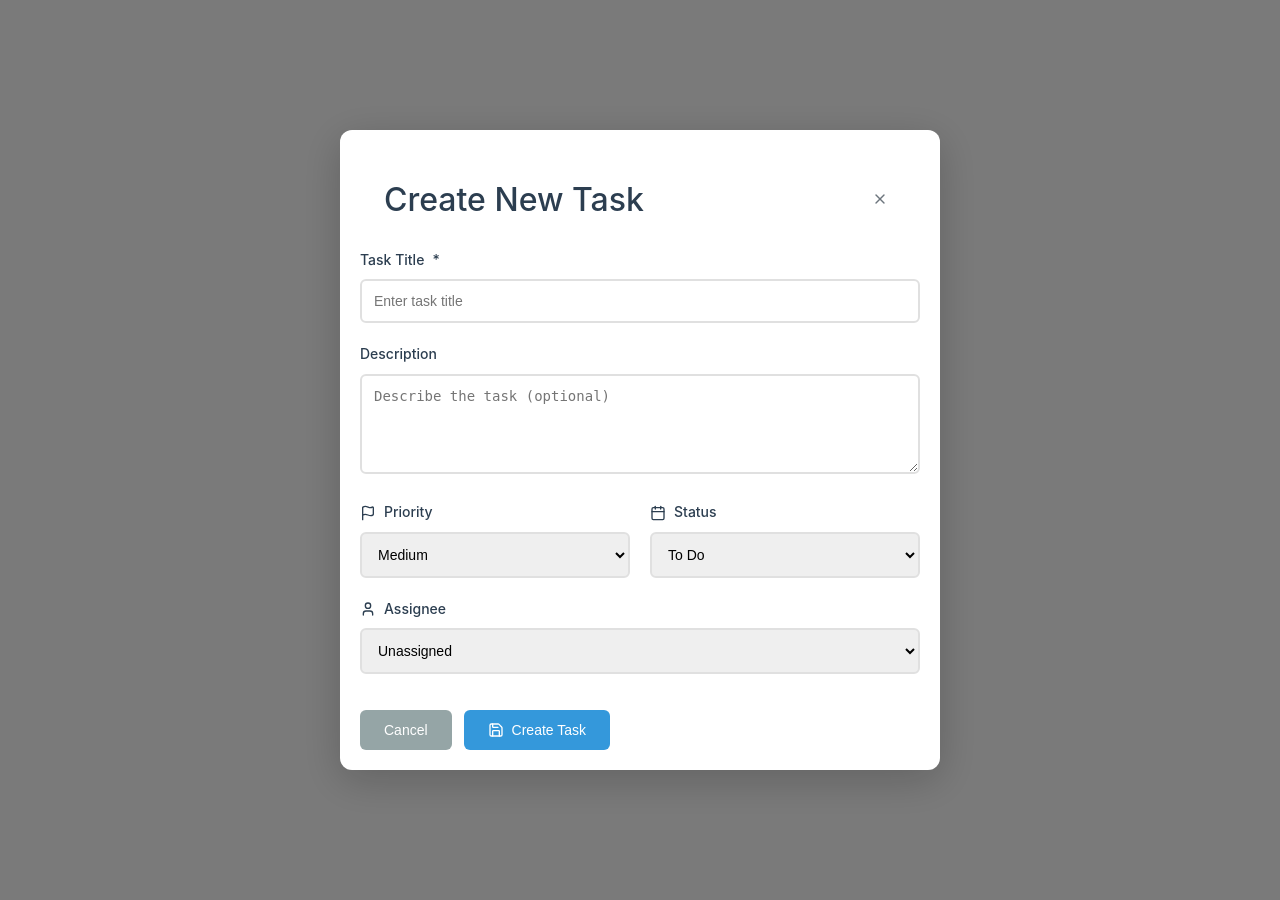
Test: TaskModal › shows validation error if title is empty
The image size is (1280, 900).
Step 1. Click the button "Create Task" → (537, 730), box [464,710,610,750]
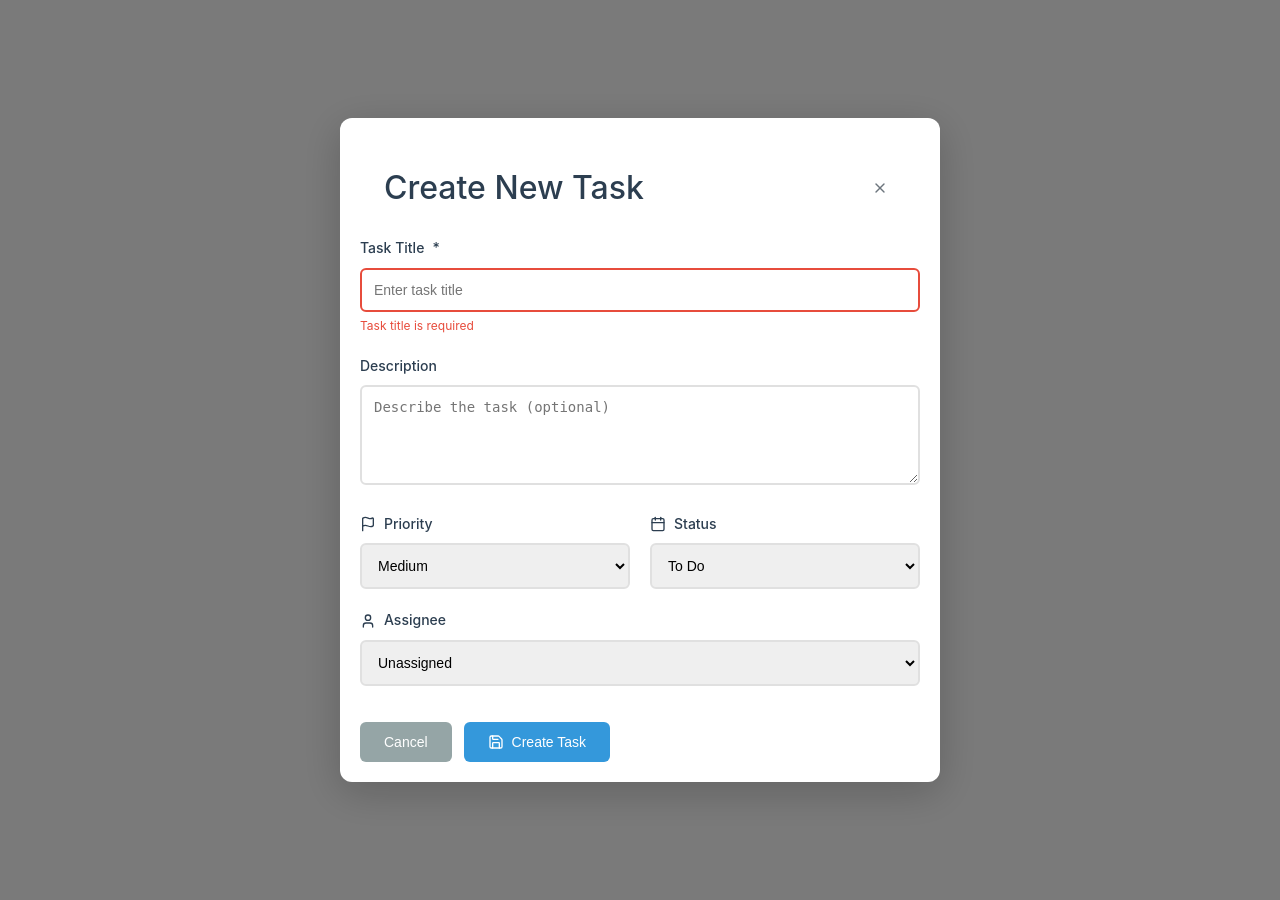
Expected: the text "Task title is required" is shown, [360,318,474,333]
